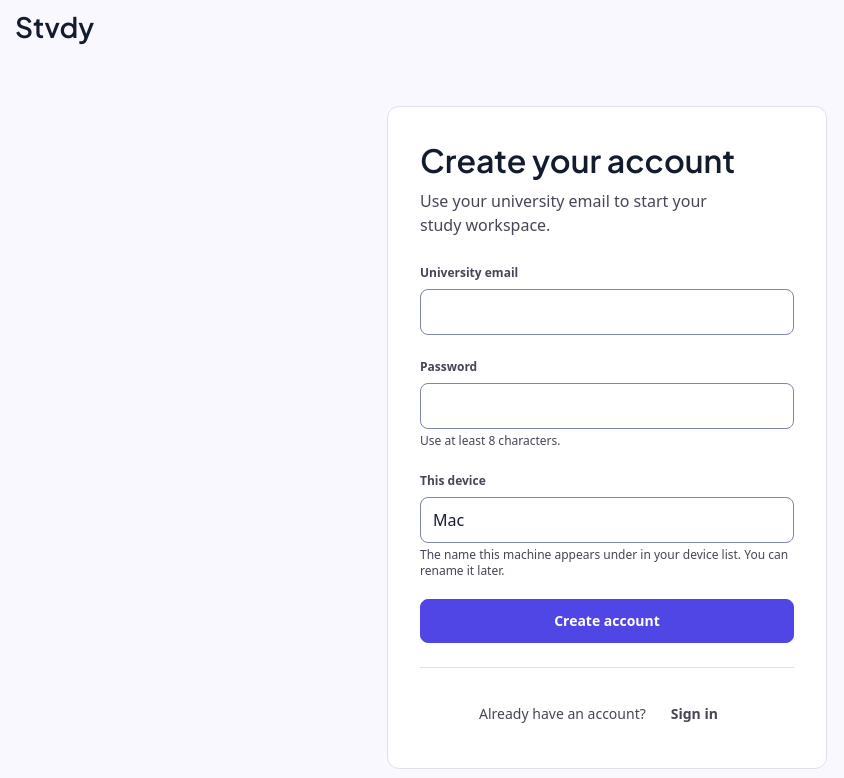
Test: signing up › reports a taken email address without pretending it succeeded
The width and height of the screenshot is (844, 778).
Type "student@example.com" into the field labelled "University email" at coordinates (607, 312), box [420,289,794,335]
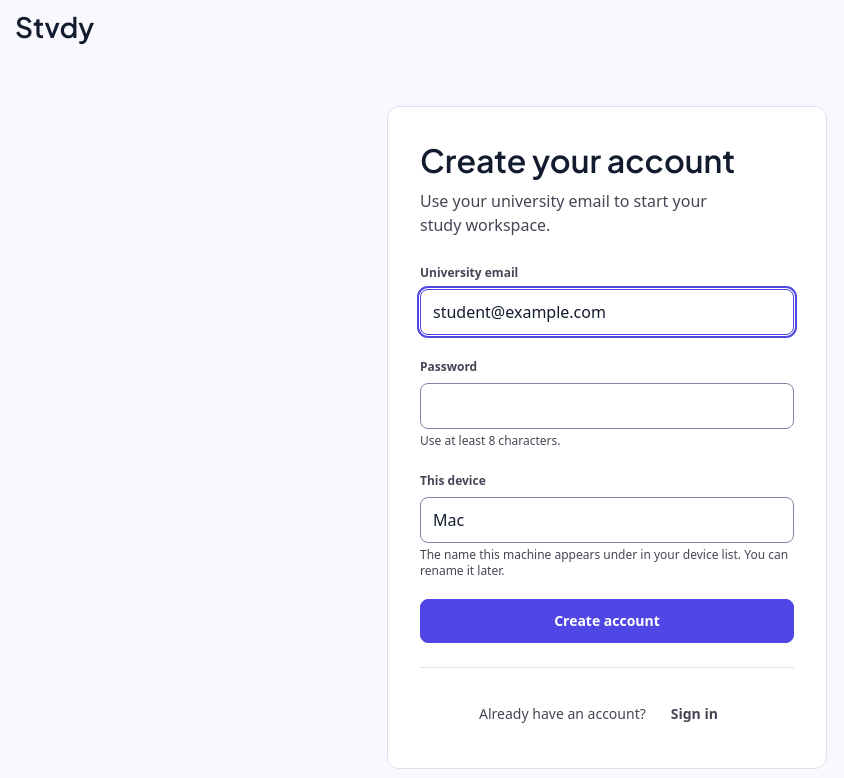
Type "correct horse battery staple" into the password field labelled "Password" at coordinates (607, 406), box [420,383,794,429]
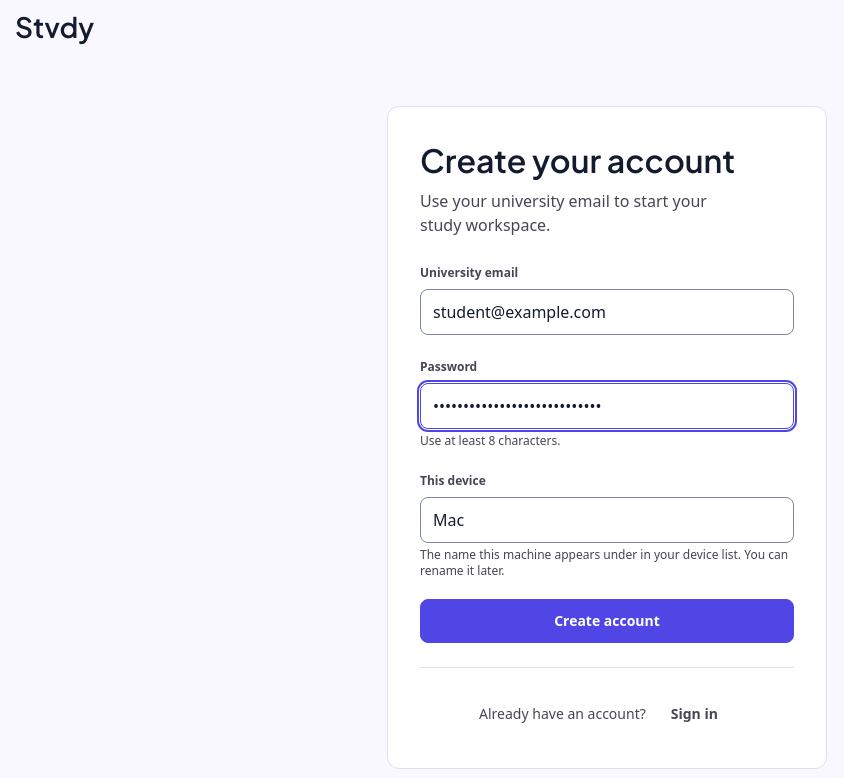
Click the button "Create account" at coordinates (607, 621), box [420,599,794,643]
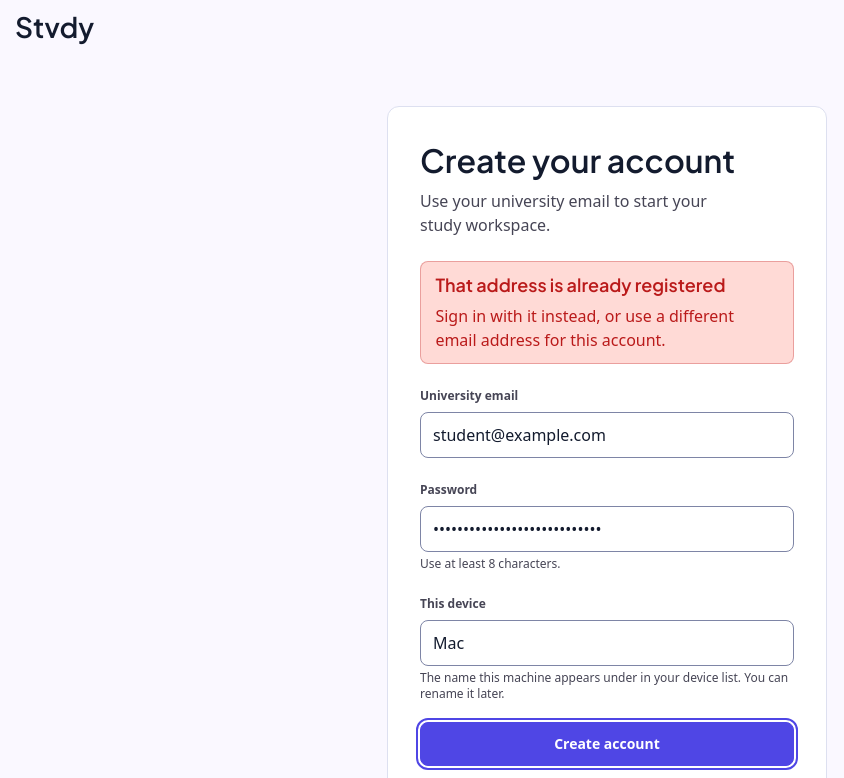
Expected: the text "That address is already registered" is shown, [435,273,726,296]
